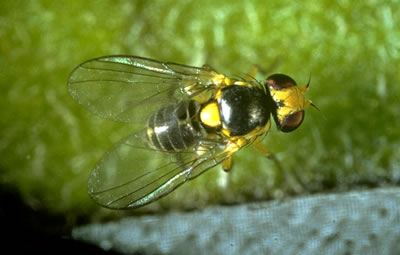Trifoli: (56, 43, 327, 223)
